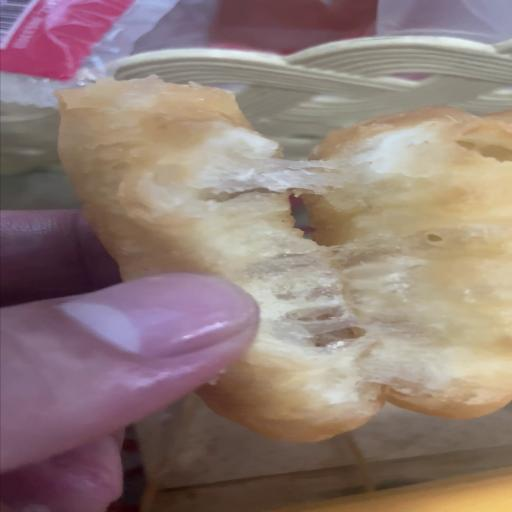street_golden_defect: (60, 97, 511, 431)
